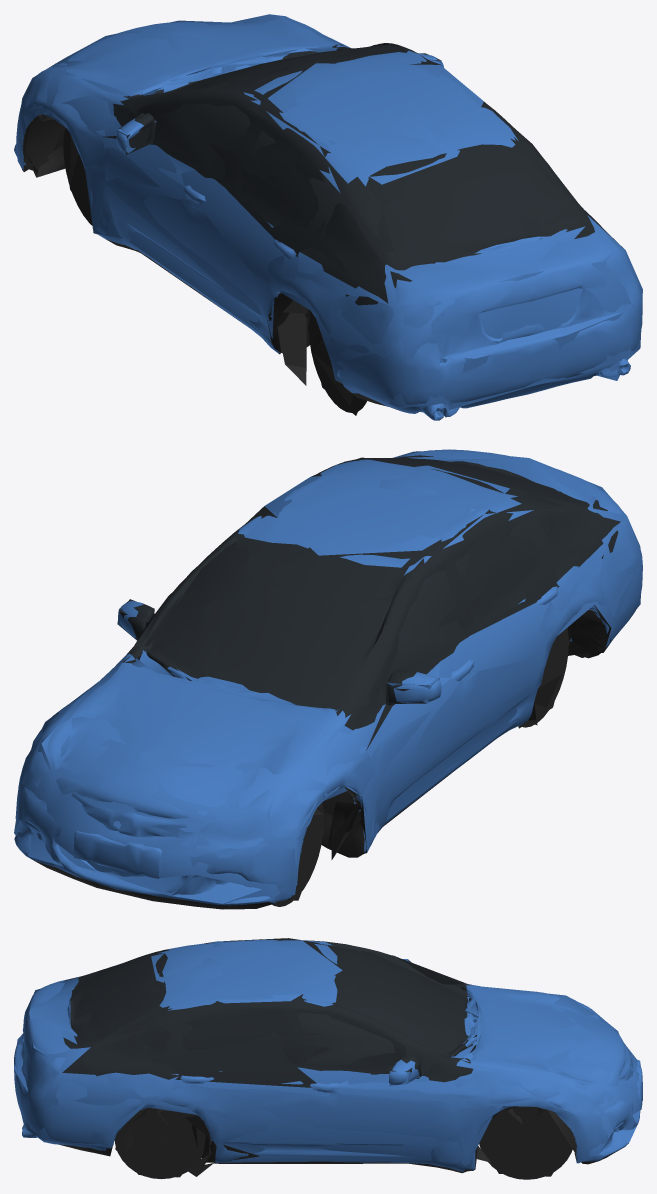
Rendered from infiniti-g37.glb.
The picture shows the model from 3 angles, top to bottom: view 1: azimuth 30°, elevation 25°; view 2: azimuth 150°, elevation 25°; view 3: azimuth 270°, elevation 25°; orthographic projection. The views are drawn at different scales.
Visible parts, largest first — view 1: body, far; view 2: body, far; view 3: body, far.
Part boxes in pixels (x1,y1,x2,y2): body: [14, 15, 642, 420]; far: [15, 14, 642, 415]; body: [14, 449, 642, 909]; far: [14, 451, 641, 903]; body: [14, 939, 642, 1179]; far: [14, 938, 640, 1177].
Size of the model in its own units: 2.04 by 1.48 by 4.69.
